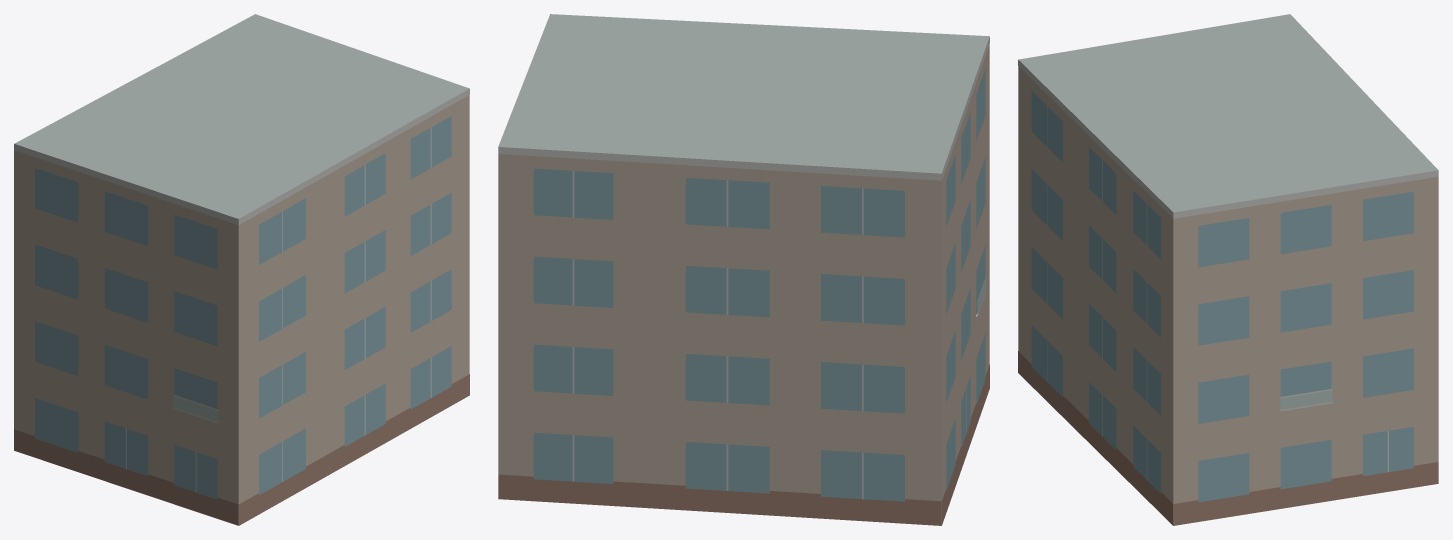
The model's file is survey-upis-32747013.glb.
The picture shows the model from 3 angles, left to right: view 1: azimuth 30°, elevation 25°; view 2: azimuth 150°, elevation 25°; view 3: azimuth 270°, elevation 25°; orthographic projection. The views are drawn at different scales.
Visible parts, largest first — view 1: survey-upis-32747013.tmp; view 2: survey-upis-32747013.tmp; view 3: survey-upis-32747013.tmp.
Boxes of the visible parts, left/top/right/bottom form: survey-upis-32747013.tmp: left=14, top=14, right=469, bottom=525; survey-upis-32747013.tmp: left=498, top=14, right=989, bottom=525; survey-upis-32747013.tmp: left=1018, top=14, right=1438, bottom=525.
Size of the model in its own units: 16.59 by 12.2 by 14.85.
